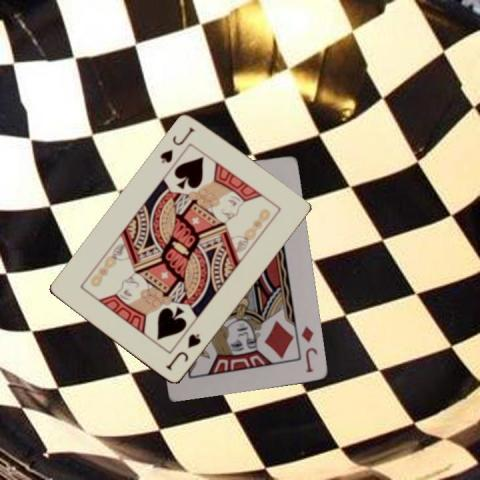Jd: (298, 323, 319, 374)
Js: (162, 330, 202, 372), (157, 124, 196, 165)
